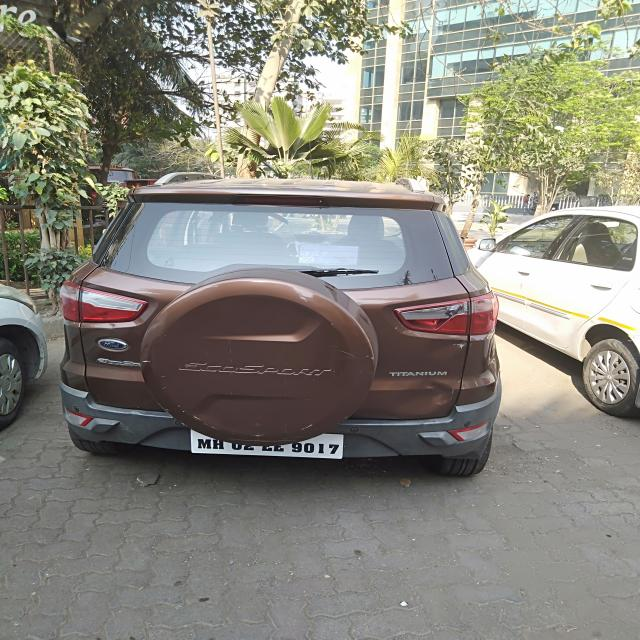Number-Plate: (187, 428, 346, 460)
